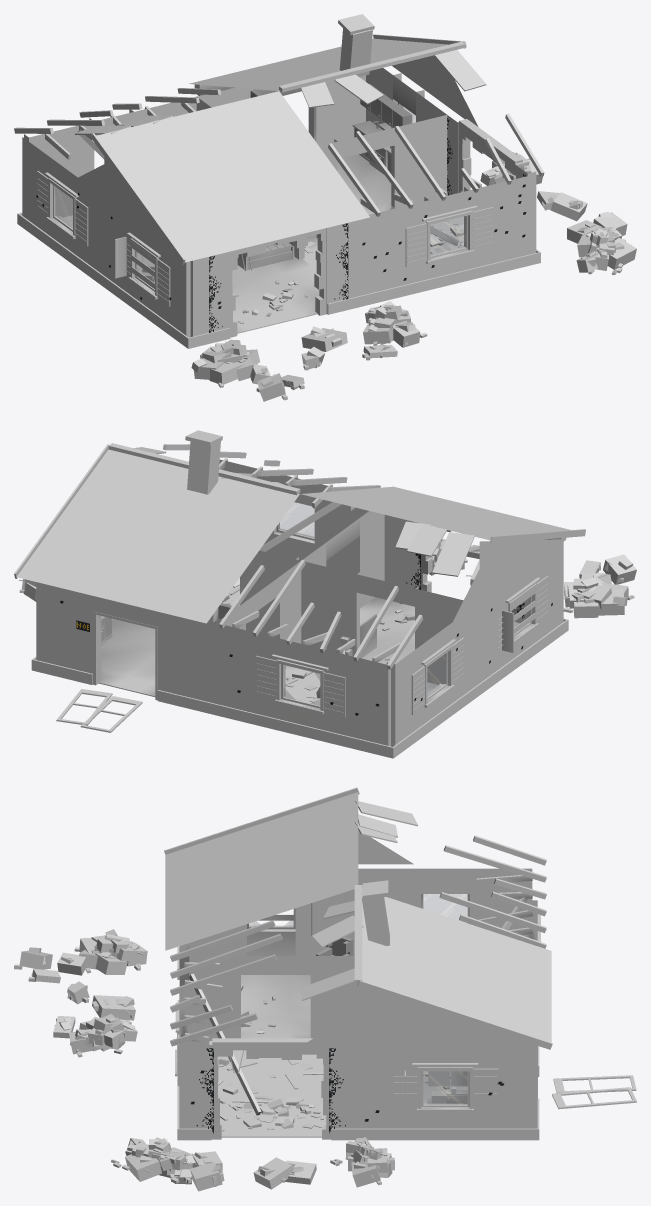
File: old_house_8.glb
The picture shows the model from 3 angles, top to bottom: view 1: azimuth 30°, elevation 25°; view 2: azimuth 150°, elevation 25°; view 3: azimuth 270°, elevation 25°; orthographic projection. The views are drawn at different scales.
Visible parts, largest first — view 1: old_house_8; view 2: old_house_8; view 3: old_house_8.
Boxes of the visible parts, x1,y1,x2,y2 form: old_house_8: (14, 14, 636, 401); old_house_8: (14, 430, 636, 758); old_house_8: (14, 787, 636, 1191).
Size of the model in its own units: 16.64 by 6.68 by 17.9.
Materials: 4 (3 with a texture image).
